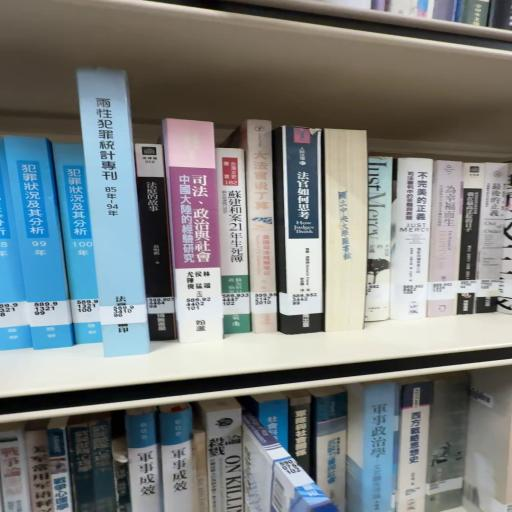backward: (324, 130, 371, 337)
book: (78, 69, 151, 361), (1, 136, 74, 355), (167, 119, 229, 344), (282, 126, 329, 336), (242, 123, 276, 337), (138, 147, 178, 309)
